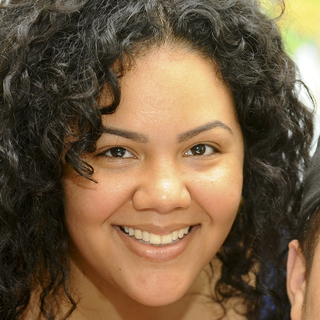eye: (179, 138, 226, 164), (96, 140, 140, 165)
